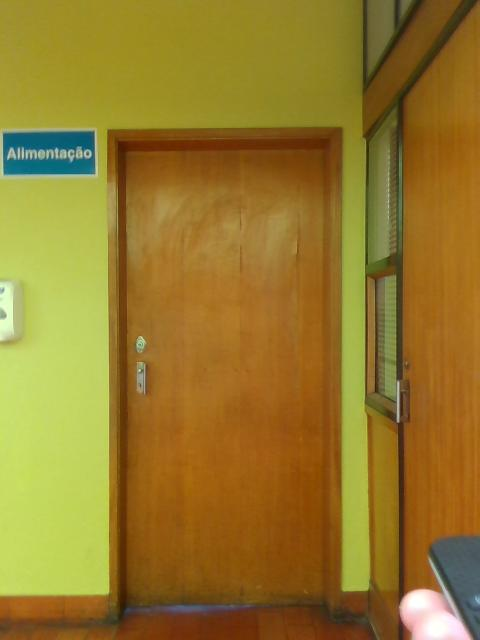door: (118, 146, 324, 599)
